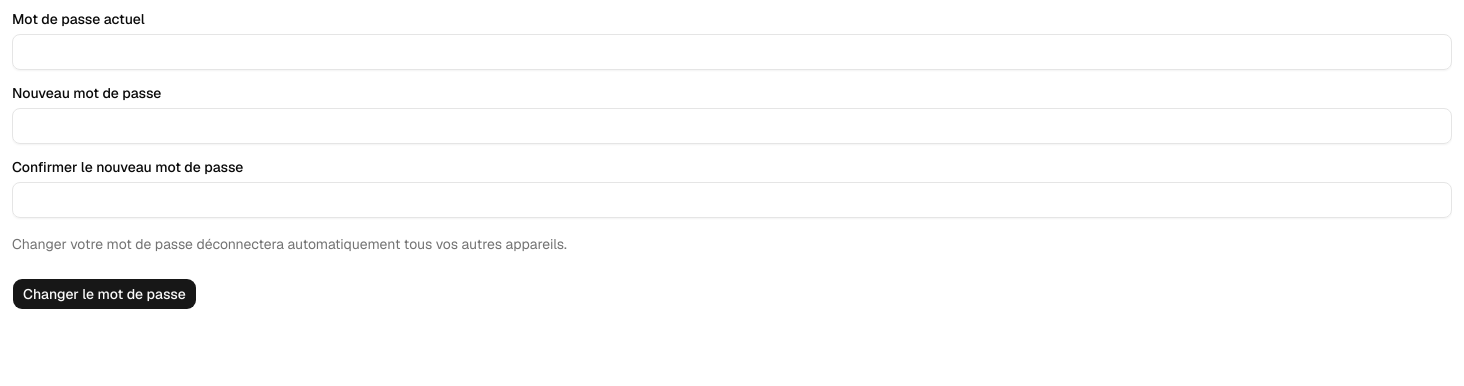
it: ChangePasswordForm › affiche l'erreur de mot de passe actuel incorrect directement dans le formulaire
The width and height of the screenshot is (1464, 386).
Type "mauvais-mot-de-passe" into the password field labelled "Mot de passe actuel" at coordinates (732, 52), box [12, 34, 1452, 70]
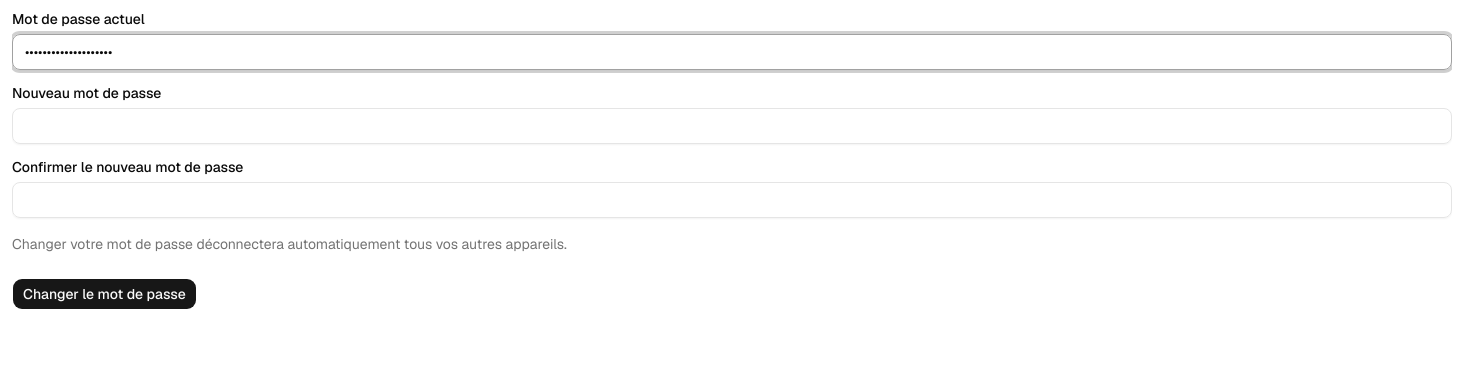
Type "nouveau-mot-de-passe" into the password field labelled "Nouveau mot de passe" at coordinates (732, 126), box [12, 108, 1452, 144]
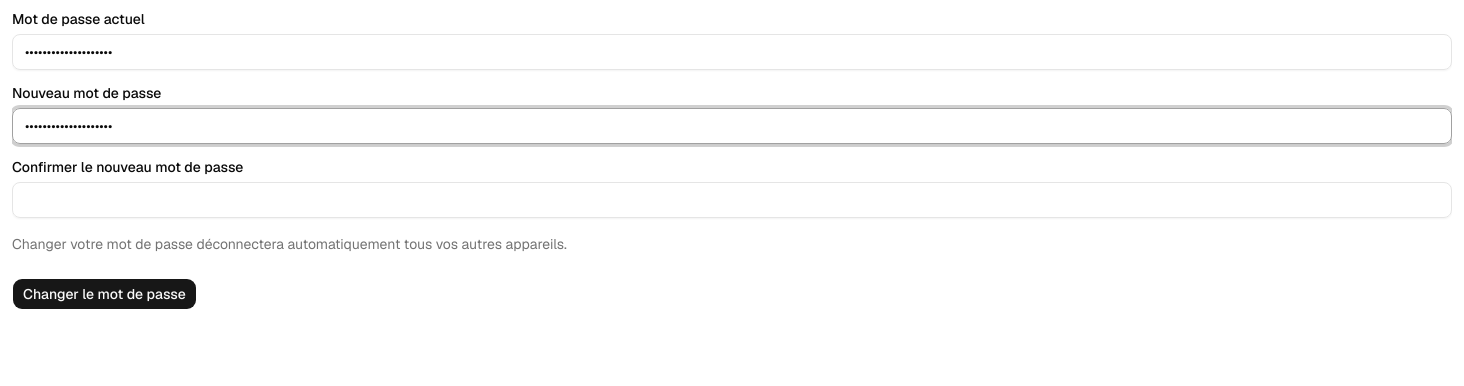
Type "nouveau-mot-de-passe" into the password field labelled "Confirmer le nouveau mot de passe" at coordinates (732, 200), box [12, 182, 1452, 218]
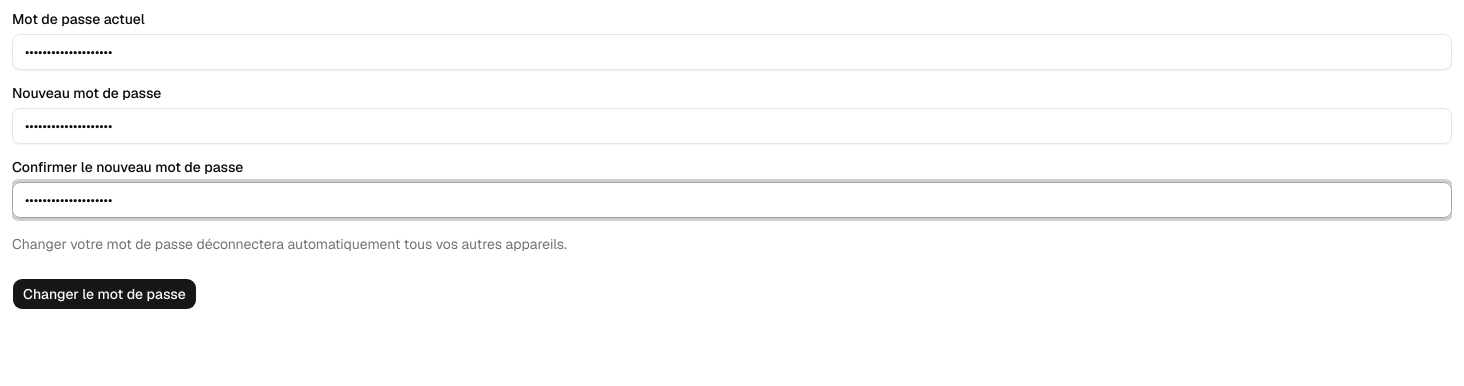
Click the button "Changer le mot de passe" at coordinates (104, 294), box [12, 278, 197, 310]
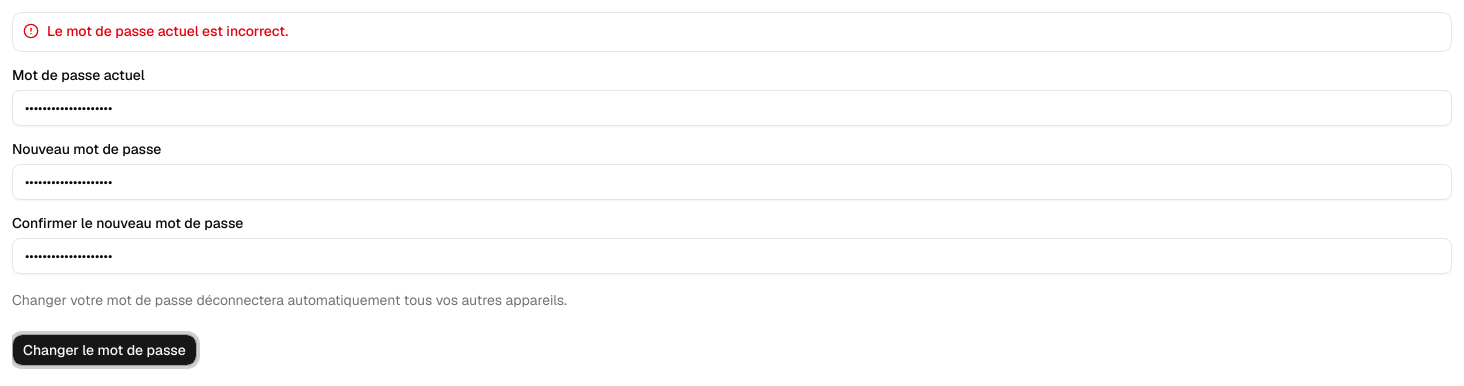
Expected: the message reads "Le mot de passe actuel est incorrect.", [47, 22, 288, 40]
